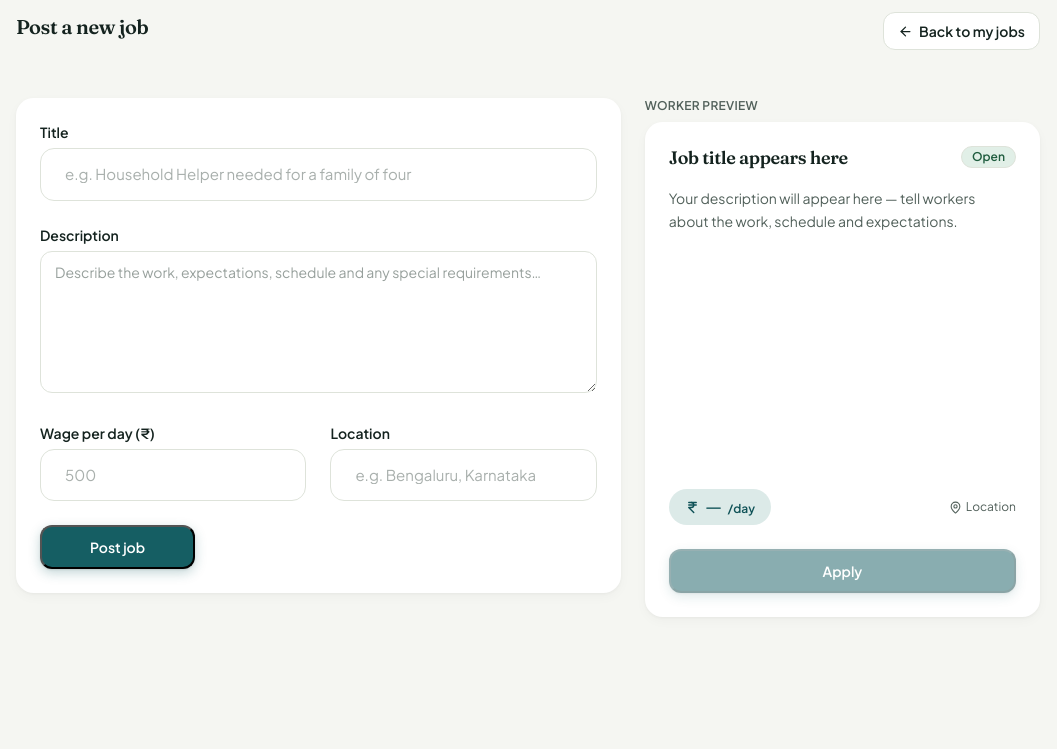
Test case: PostJob › create mode › shows inline errors and does not POST when submitting an empty form
This screenshot has width=1057, height=749.
Click the button "Post job".
click(118, 547)  # box [40,525,195,569]
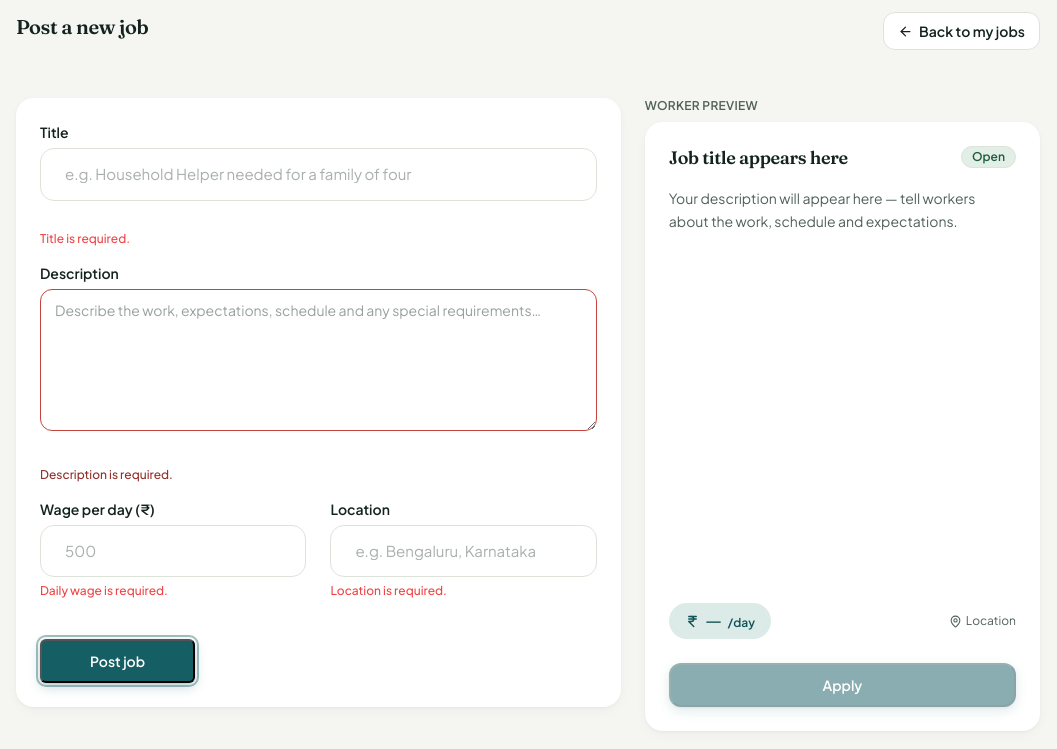
Check: the text "Title is required." is shown, box [40,230,130,246]
Check: the text "Description is required." is shown, box [40,466,173,482]
Check: the text "Daily wage is required." is shown, box [40,583,168,598]
